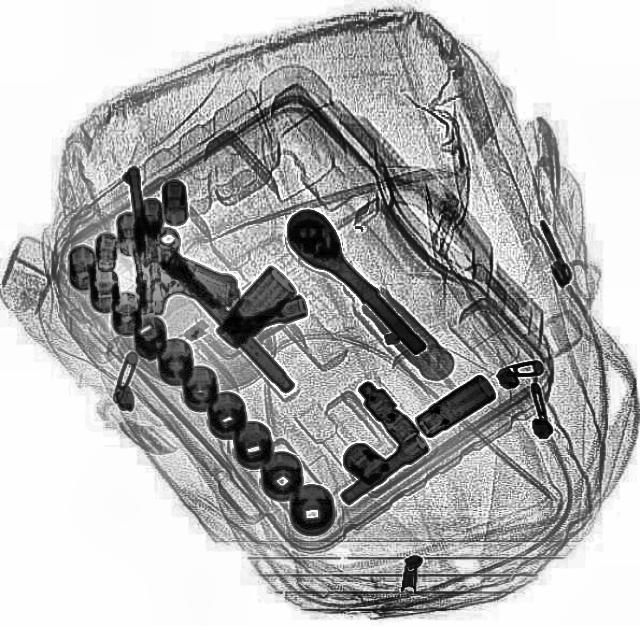Gun: (120, 160, 238, 314)
